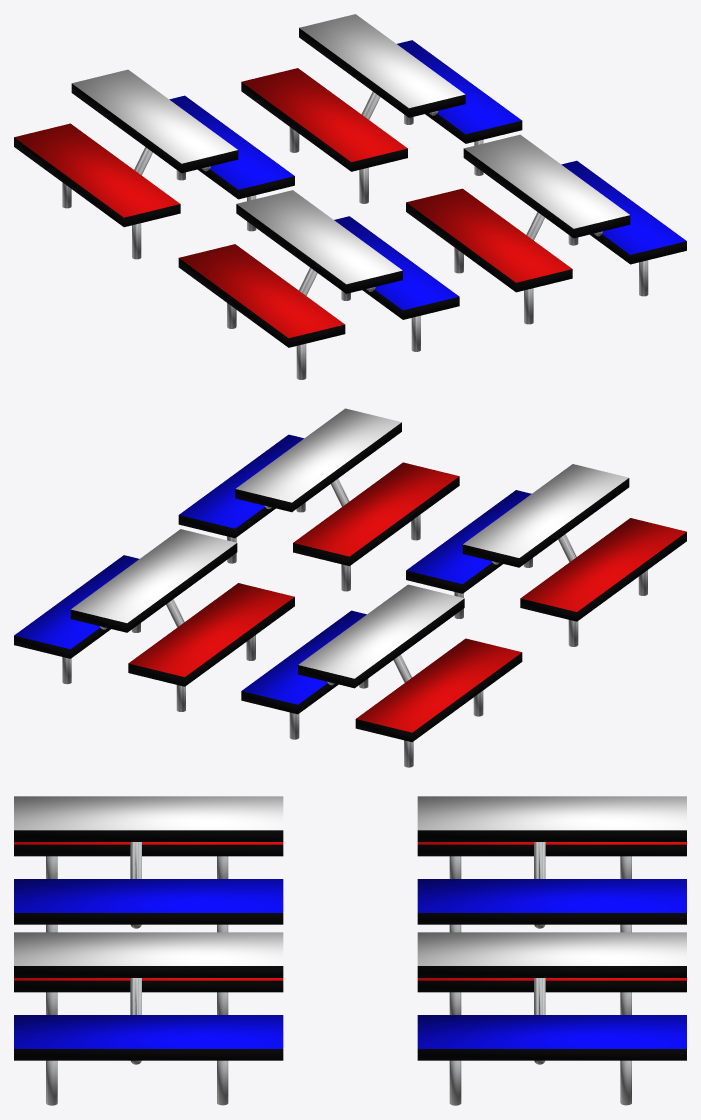
The model's file is mesa.fbx.
3 views of the same model, one above another, from view 1: azimuth 30°, elevation 25°; view 2: azimuth 150°, elevation 25°; view 3: azimuth 270°, elevation 25° (orthographic). The views are drawn at different scales.
Visible parts, largest first — view 1: mesas; view 2: mesas; view 3: mesas.
Boxes of the visible parts, bbox=[...] form: mesas: bbox=[14, 14, 686, 379]; mesas: bbox=[14, 408, 686, 767]; mesas: bbox=[14, 796, 686, 1105].
Size of the model in its own units: 1904 by 447 by 2274.
5 materials, 5 textured.
